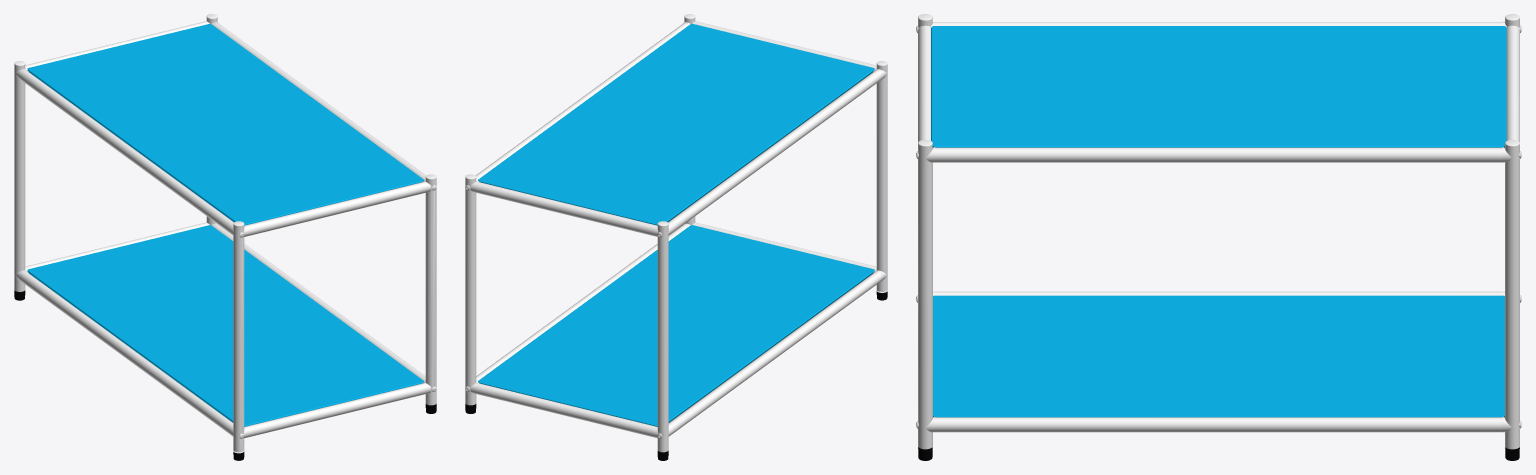
The model's file is 80x40x40-1-1-blue_optimized_optimized.glb.
The picture shows the model from 3 angles, left to right: view 1: azimuth 30°, elevation 25°; view 2: azimuth 150°, elevation 25°; view 3: azimuth 270°, elevation 25°; orthographic projection. The views are drawn at different scales.
Visible parts, largest first — view 1: 直角鐵板-80x40-5 - 零件, new-上塞-1 - 零件; view 2: 直角鐵板-80x40-5 - 零件, new-上塞-1 - 零件; view 3: 直角鐵板-80x40-5 - 零件, new-上塞-1 - 零件.
Part boxes in pixels (x1,y1,x2,y2): 直角鐵板-80x40-5 - 零件: [27, 23, 423, 426]; new-上塞-1 - 零件: [14, 14, 436, 460]; 直角鐵板-80x40-5 - 零件: [478, 23, 874, 426]; new-上塞-1 - 零件: [465, 14, 887, 452]; 直角鐵板-80x40-5 - 零件: [931, 26, 1506, 417]; new-上塞-1 - 零件: [916, 14, 1521, 449].
Bounding box in the file's own units: 0.3992 × 0.4453 × 0.7732.
